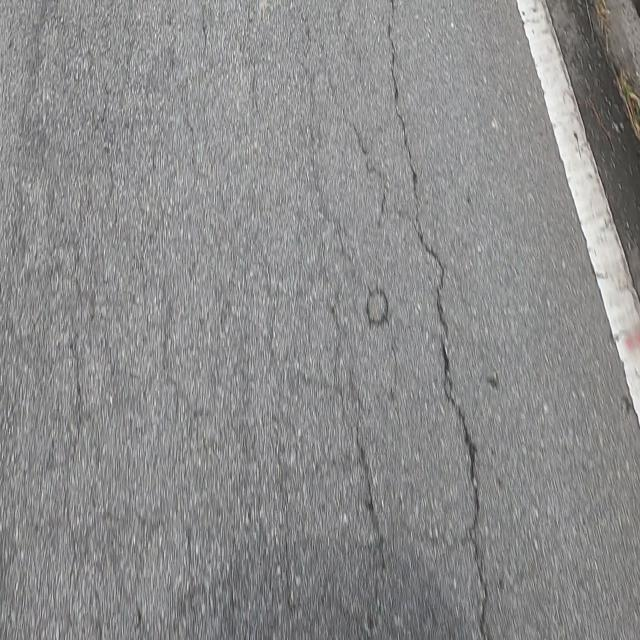Retak-Buaya: (3, 3, 394, 637)
Retak-Memanjang: (384, 0, 488, 635)
